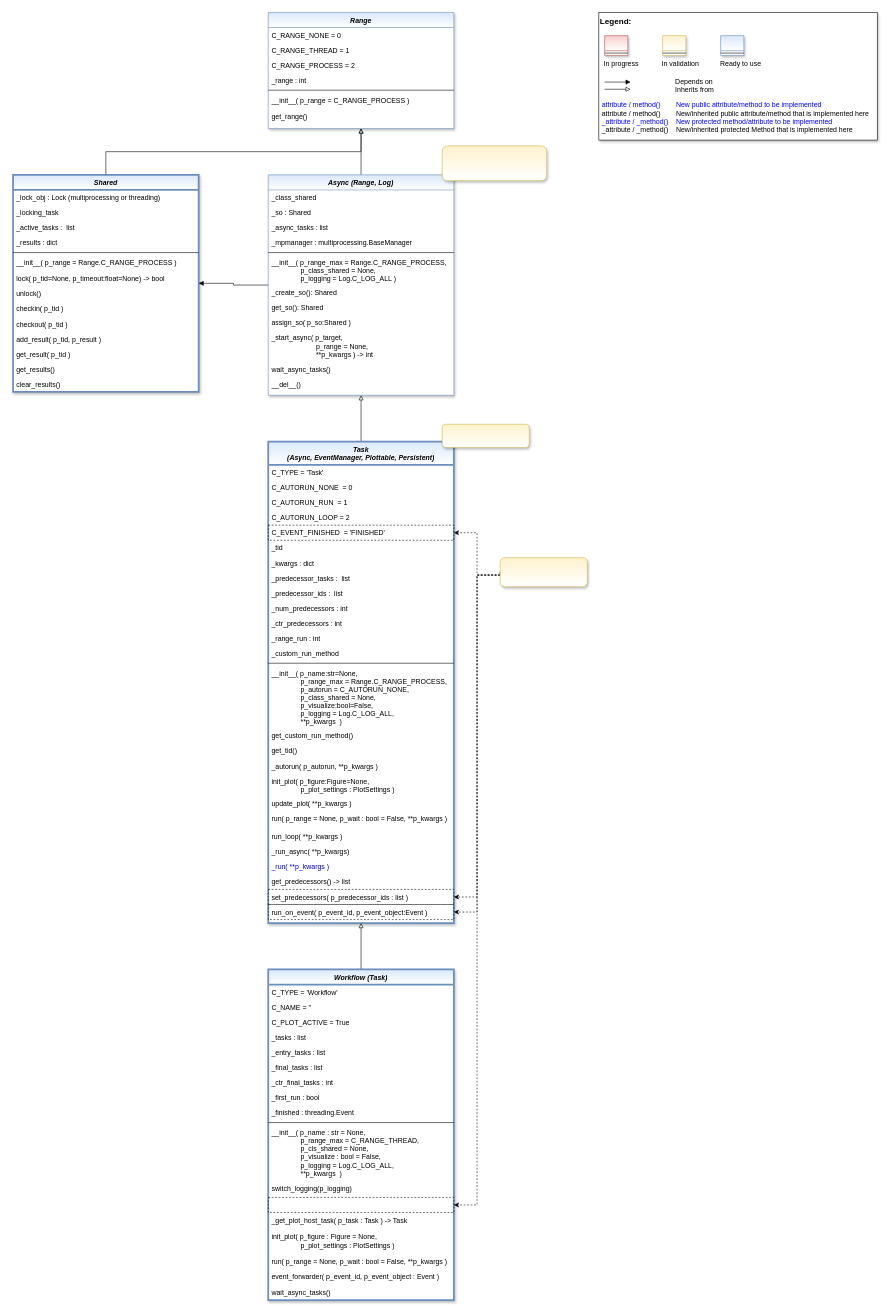
Some shapes in this 891 by 1315 pixel diagram are drawn without their labels. Each missing label, with the centre of its shape:
"add_task( p_task : Task, p_pred_tasks : list = None )" goes at point (361, 1204).
"Enables the creation of event oriented task hierarchies." goes at point (544, 573).
"Property class, that enables a child class to start asynchronous sub-functions" goes at point (494, 164).
"Template class for own (asynchronous) Tasks" goes at point (486, 436).
